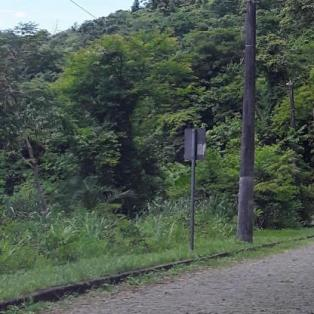Poste: (235, 0, 265, 242)
